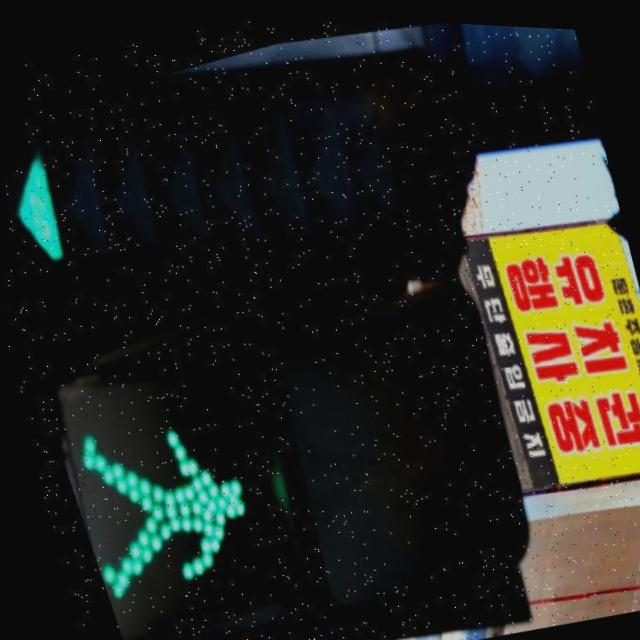green_light: (20, 301, 313, 640)
